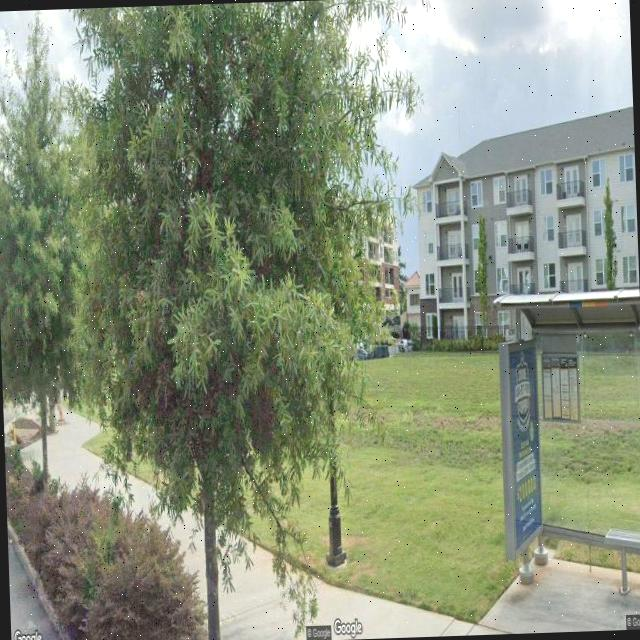seating: (602, 519, 640, 614)
shelter: (490, 286, 640, 634)
